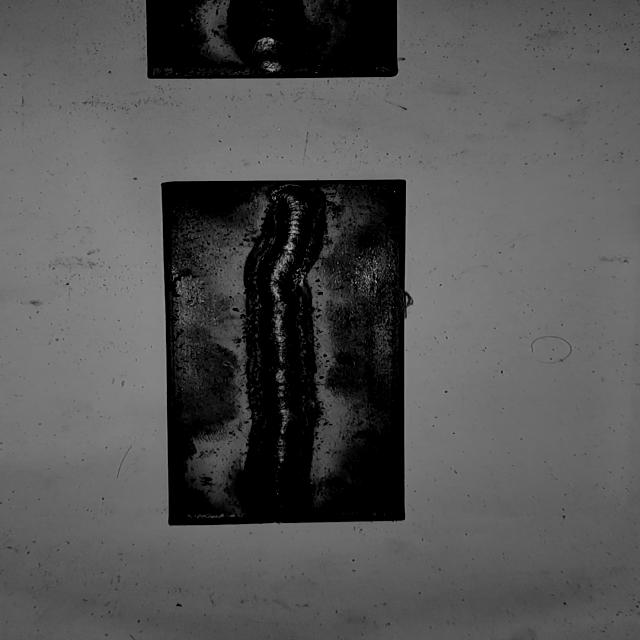Good Weld: (254, 186, 322, 521), (241, 0, 295, 72)
